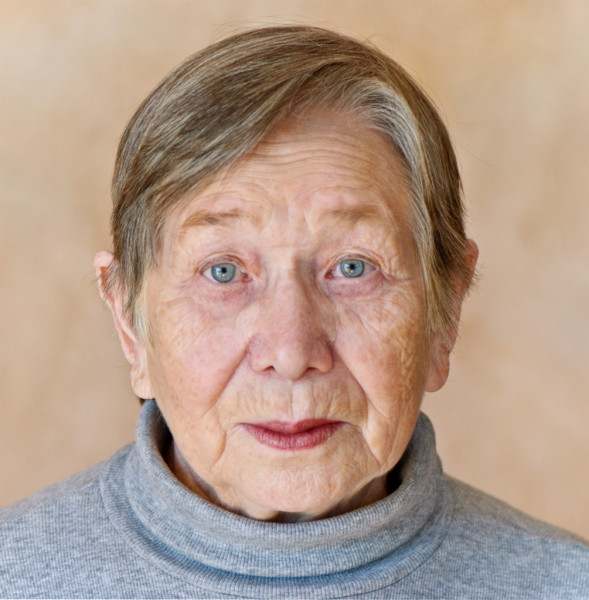without_mask: (95, 142, 478, 503)
